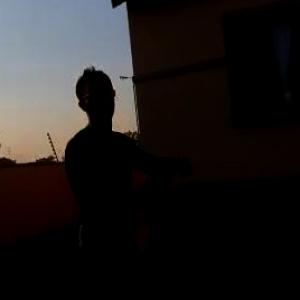follow: (59, 57, 196, 299)
